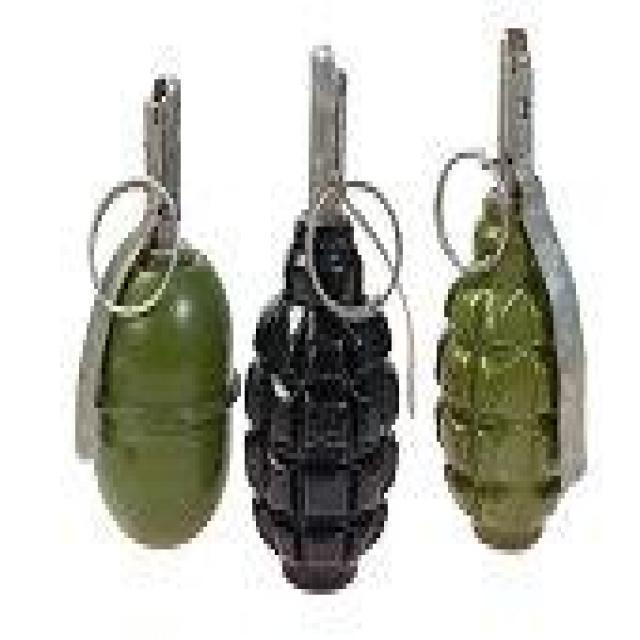Grenade: (240, 34, 410, 584), (426, 17, 584, 544), (68, 62, 234, 538)
